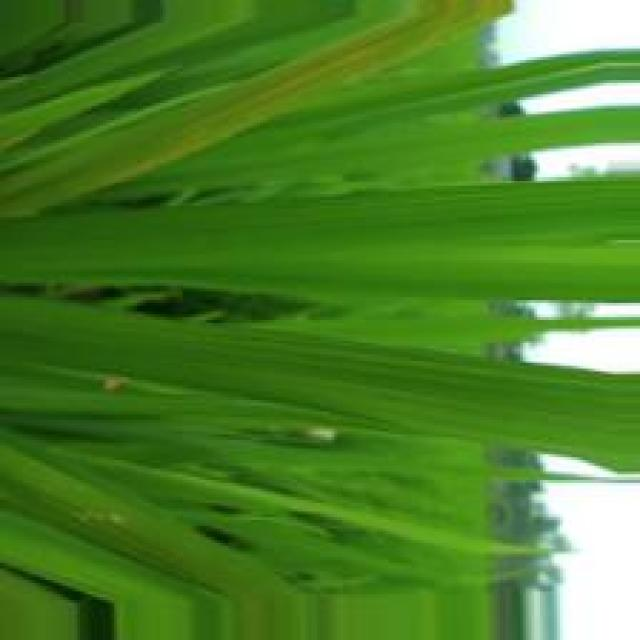HealthyLeaf: (3, 298, 638, 474), (82, 181, 638, 300)
